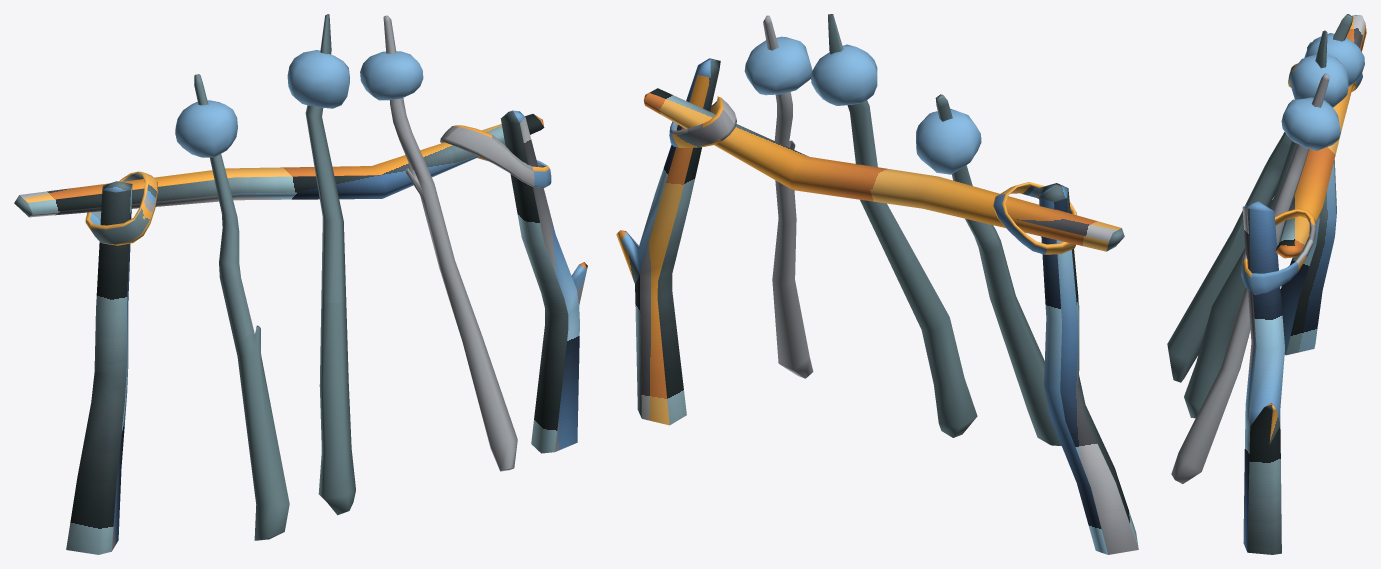
Rendered from Prop_MarshmallowSet_01.glb.
3 views of the same model, side by side, from view 1: azimuth 30°, elevation 25°; view 2: azimuth 150°, elevation 25°; view 3: azimuth 270°, elevation 25° (orthographic). The views are drawn at different scales.
Visible parts, largest first — view 1: Prop_MarshmallowSet_01; view 2: Prop_MarshmallowSet_01; view 3: Prop_MarshmallowSet_01.
Part boxes in pixels (<box>): Prop_MarshmallowSet_01: <box>14,14,587,554</box>; Prop_MarshmallowSet_01: <box>616,14,1138,554</box>; Prop_MarshmallowSet_01: <box>1167,14,1366,554</box>.
Bounding box in the file's own units: 0.9205 × 0.7577 × 0.317.
Materials: 1 (1 with a texture image).
